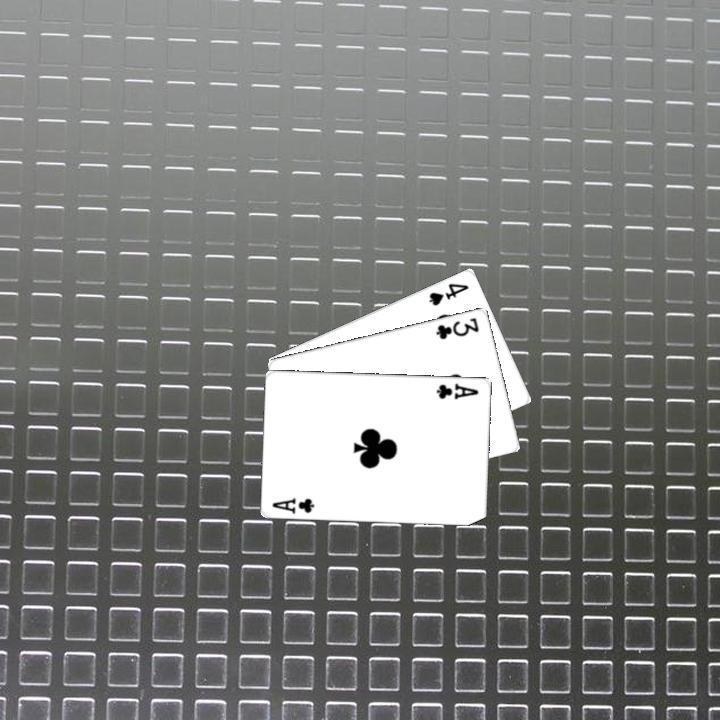3: (432, 313, 481, 341)
4: (425, 278, 471, 307)
A: (433, 378, 480, 401), (268, 493, 317, 515)
